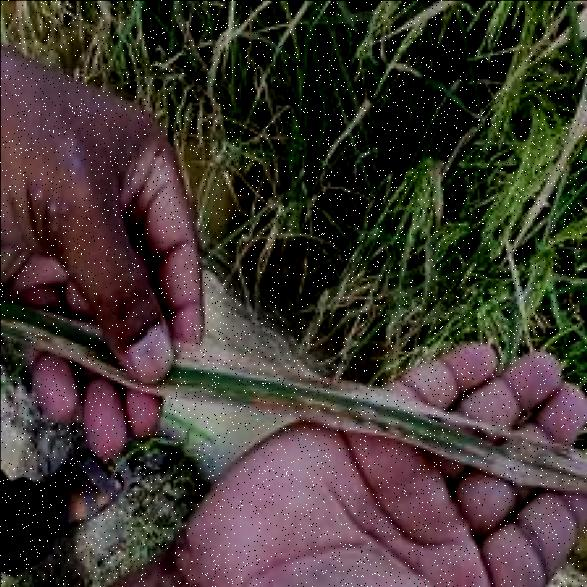Bacteria_Leaf_Blight: (34, 301, 584, 493)
